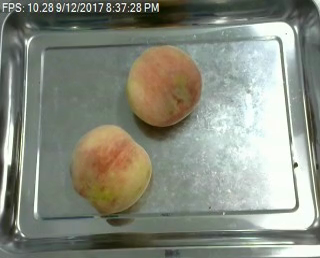Peach: (70, 123, 152, 215), (126, 43, 202, 127)
